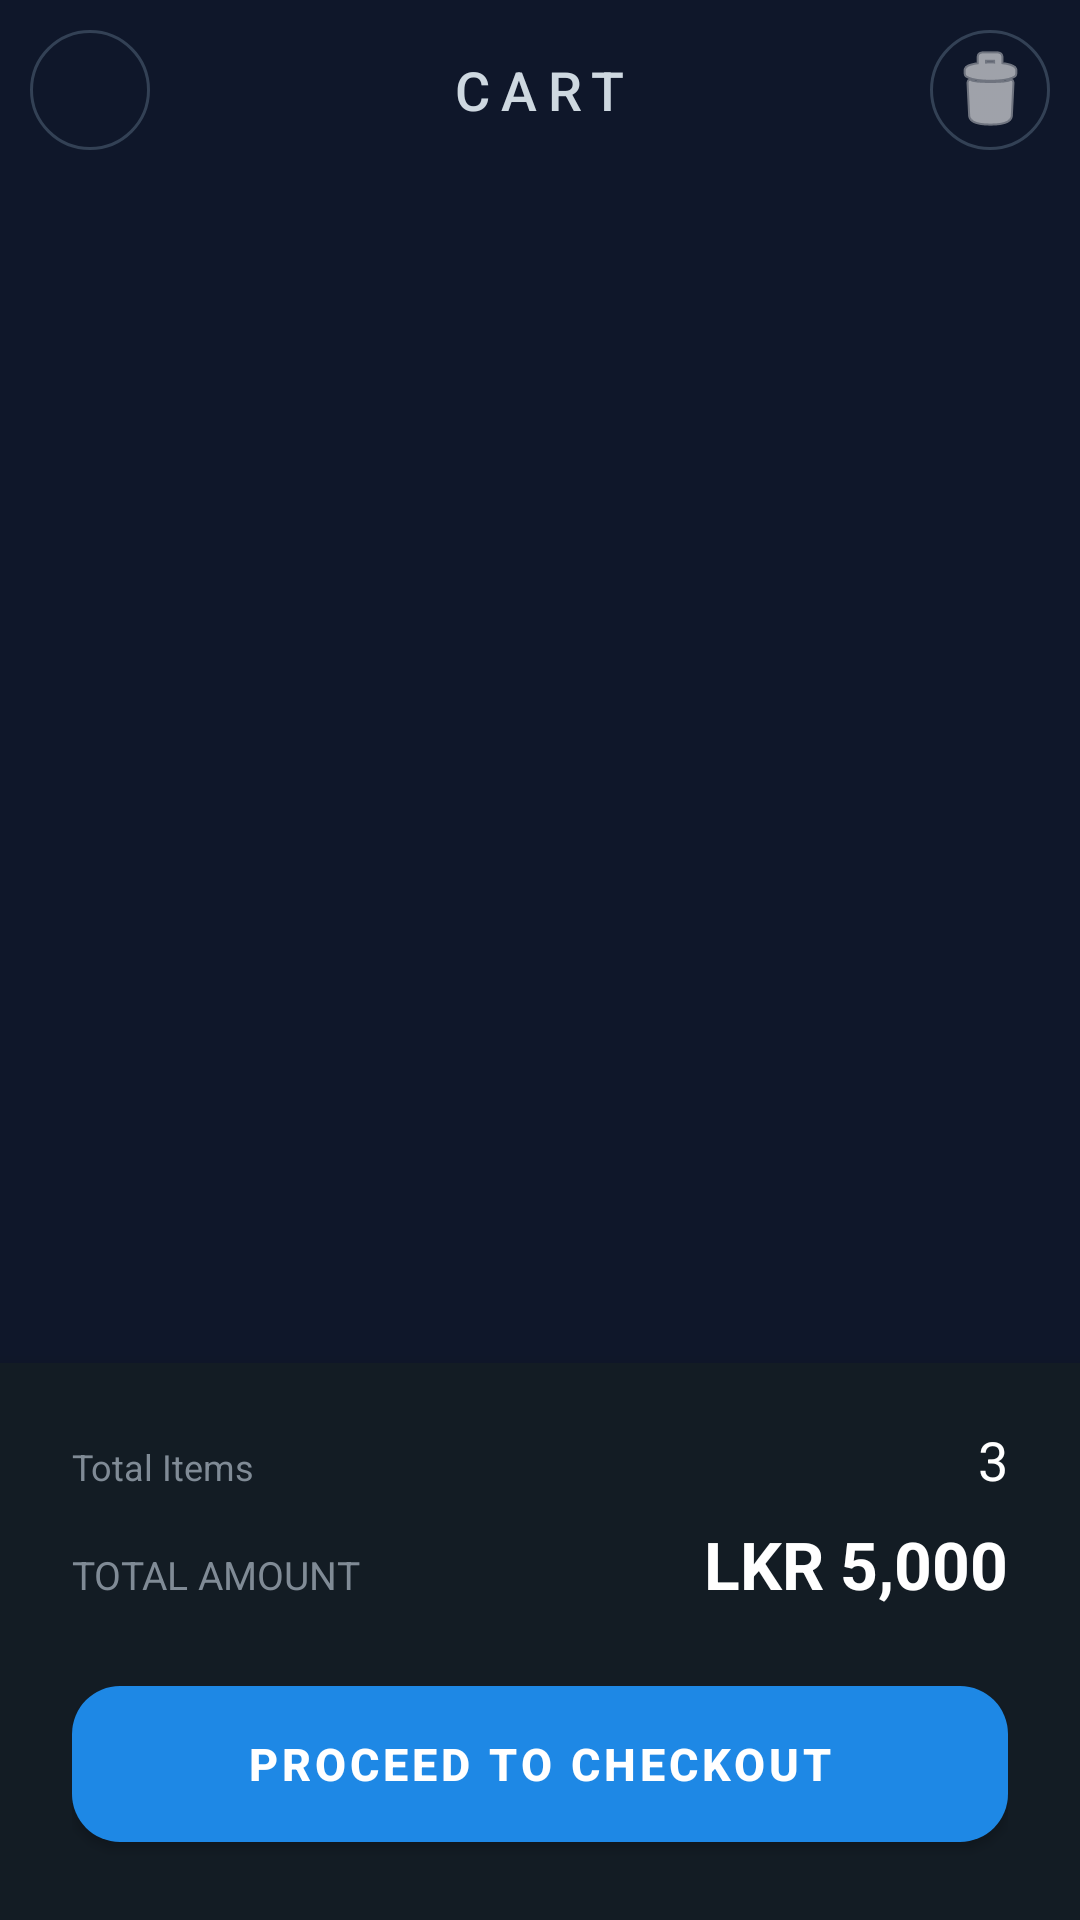

Named icons in this screenshot (1080 × 1920) and their centers, (x,y):
delete: (990,90)
